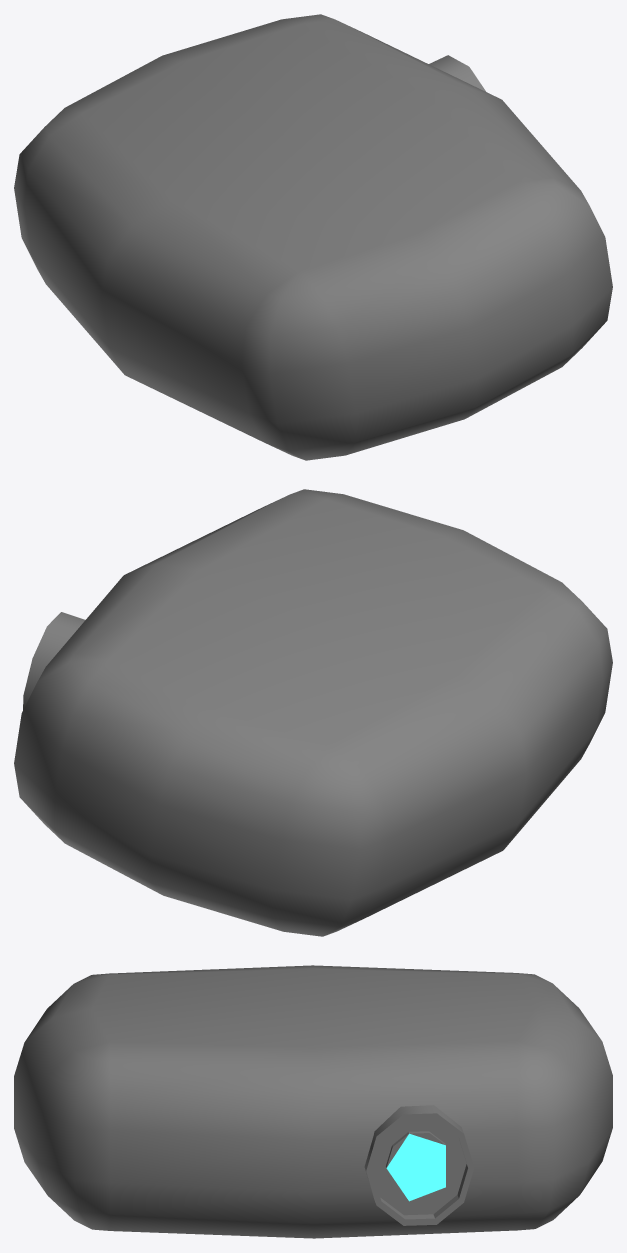
File: Projo.fbx
3 views of the same model, one above another, from view 1: azimuth 30°, elevation 25°; view 2: azimuth 150°, elevation 25°; view 3: azimuth 270°, elevation 25° (orthographic). The views are drawn at different scales.
Visible parts, largest first — view 1: Projector001; view 2: Projector001; view 3: Projector001.
Boxes of the visible parts, bbox=[...] form: Projector001: bbox=[14, 14, 612, 460]; Projector001: bbox=[14, 489, 612, 936]; Projector001: bbox=[14, 965, 612, 1238].
Bounding box in the file's own units: 30.22 × 15.21 × 38.55.
